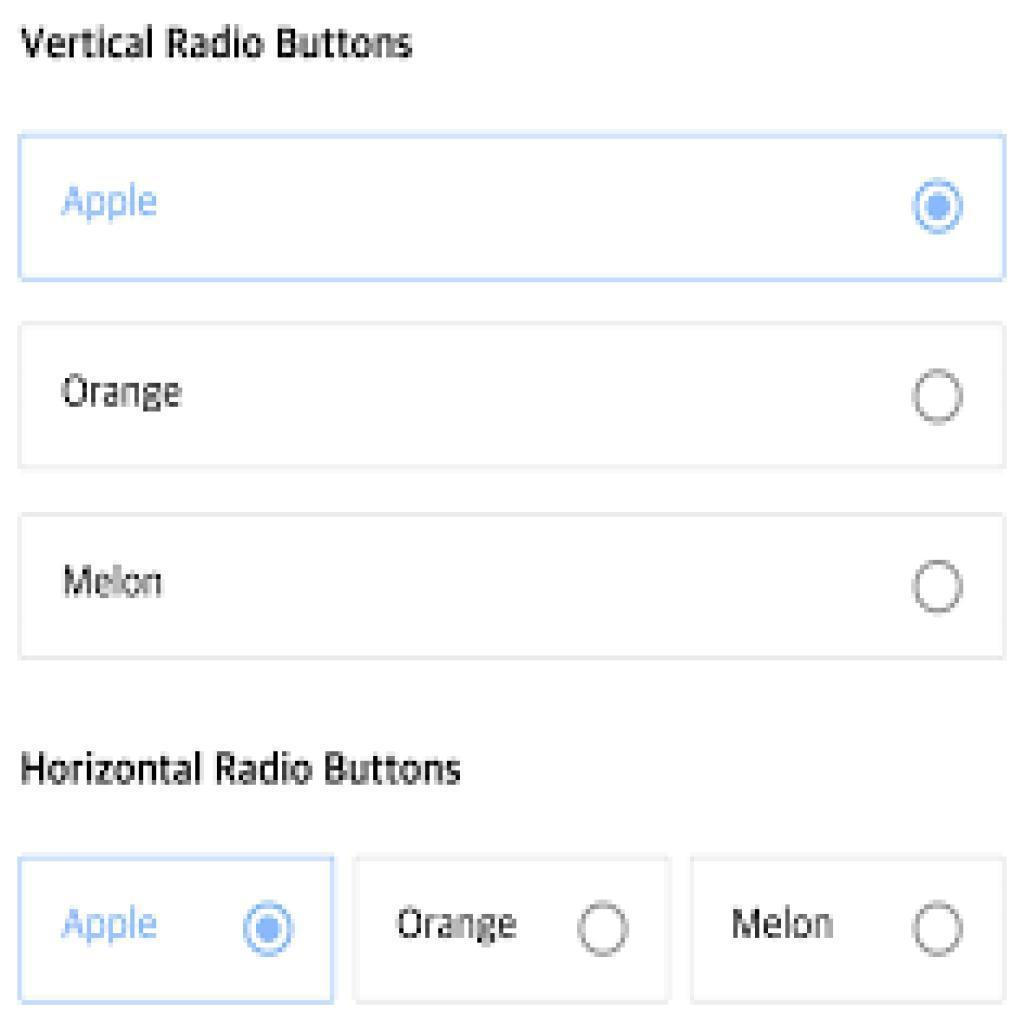radio: (907, 889, 976, 967), (240, 895, 301, 965), (576, 896, 635, 963), (908, 175, 965, 241), (912, 556, 968, 622), (907, 364, 970, 421)
